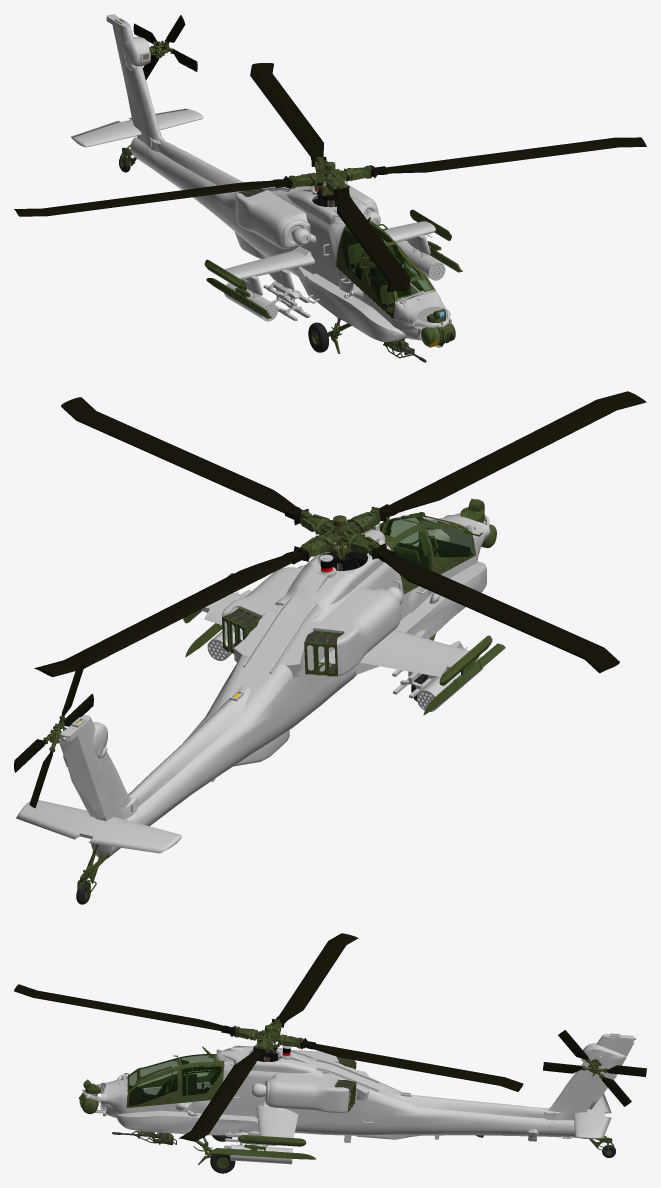
File: Apache.FBX
The picture shows the model from 3 angles, top to bottom: view 1: azimuth 30°, elevation 25°; view 2: azimuth 150°, elevation 25°; view 3: azimuth 270°, elevation 25°; orthographic projection. The views are drawn at different scales.
Visible parts, largest first — view 1: Apacfuse, ApacRot2, ApacFusT, ApacfusW, Apacfus3, ApacCgla, ApacfuW1, ApacCono, ApacRoto, ApacCock, ApacTro2, ApacR70m (+4 smaller); view 2: Apacfuse, ApacRot2, ApacFusT, ApacfuW1, ApacfusW, ApacCgla, ApacRoto, Apacfus3, ApacTur2, ApacCono, ApacTro2, ApacCock (+1 smaller); view 3: Apacfuse, ApacRot2, ApacFusT, ApacCgla, Apacfus3, ApacCono, ApacfusW, ApacTro2, ApacCock, ApacfuW1, ApacRoto, ApacRsu1 (+3 smaller).
Part boxes in pixels (x1,y1,x2,y2): Apacfuse: [106, 14, 451, 347]; ApacRot2: [14, 63, 646, 292]; ApacFusT: [235, 178, 380, 248]; ApacfusW: [224, 221, 435, 295]; Apacfus3: [297, 267, 425, 342]; ApacCgla: [342, 224, 430, 315]; ApacfuW1: [71, 108, 203, 147]; ApacCono: [336, 220, 435, 319]; ApacRoto: [288, 157, 371, 192]; ApacCock: [312, 190, 410, 315]; ApacTro2: [133, 15, 197, 79]; ApacR70m: [396, 240, 445, 280]; Apacfuse: [58, 513, 490, 859]; ApacRot2: [34, 391, 646, 676]; ApacFusT: [222, 565, 403, 676]; ApacfuW1: [16, 800, 181, 853]; ApacfusW: [201, 590, 468, 677]; ApacCgla: [373, 516, 473, 569]; ApacRoto: [300, 508, 380, 558]; Apacfus3: [356, 561, 486, 674]; ApacTur2: [222, 608, 342, 676]; ApacCono: [371, 515, 475, 594]; ApacTro2: [14, 659, 93, 808]; ApacCock: [323, 537, 472, 591]; Apacfuse: [82, 1033, 636, 1148]; ApacRot2: [14, 933, 523, 1141]; ApacFusT: [252, 1050, 349, 1112]; ApacCgla: [129, 1054, 221, 1105]; Apacfus3: [116, 1092, 257, 1135]; ApacCono: [126, 1054, 224, 1108]; ApacfusW: [239, 1102, 297, 1145]; ApacTro2: [543, 1030, 646, 1106]; ApacCock: [128, 1048, 278, 1105]; ApacfuW1: [573, 1093, 611, 1138]; ApacRoto: [234, 1019, 303, 1052]; ApacRsu1: [211, 1144, 315, 1159].
Size of the model in its own units: 9443 by 2854 by 11706.
